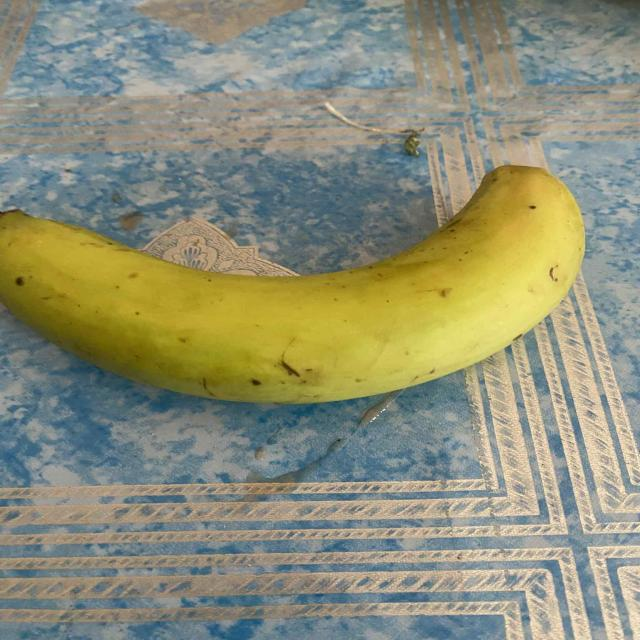Unripe: (0, 107, 640, 435)
